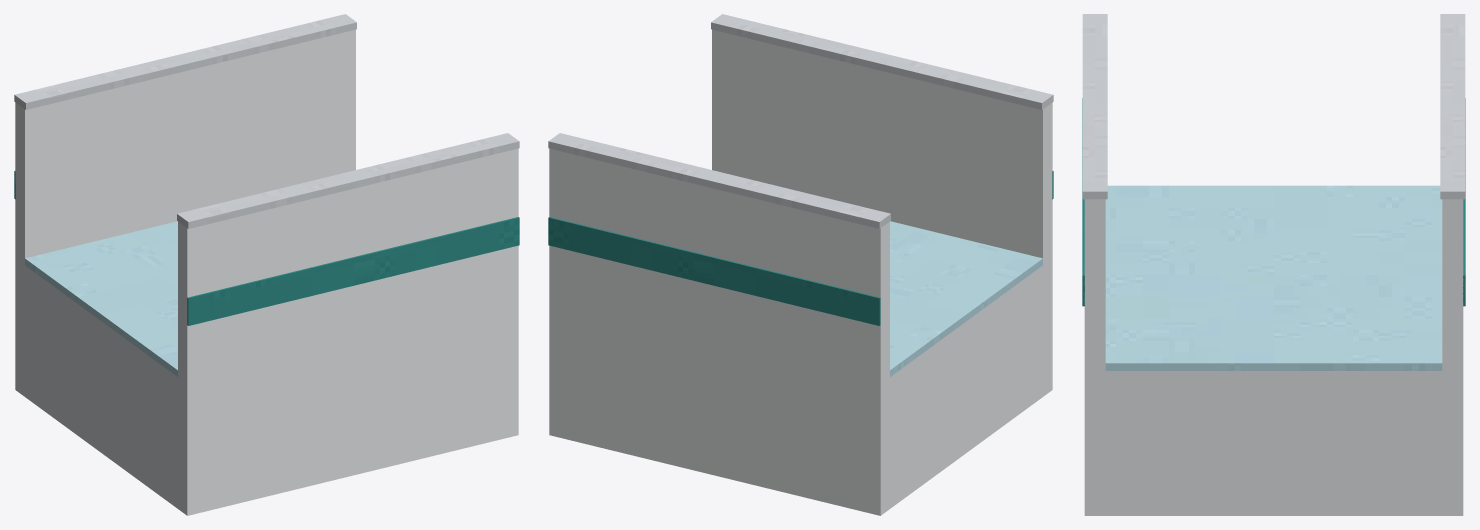
3 renders of one model, left to right at view 1: azimuth 30°, elevation 25°; view 2: azimuth 150°, elevation 25°; view 3: azimuth 270°, elevation 25°, orthographic. The views are drawn at different scales.
Parts seen in each view (by area): view 1: Decor_shelf_kit/tub; view 2: Decor_shelf_kit/tub; view 3: Decor_shelf_kit/tub.
Part boxes in pixels (x1,y1,x2,y2): Decor_shelf_kit/tub: (14, 14, 519, 515); Decor_shelf_kit/tub: (548, 14, 1053, 515); Decor_shelf_kit/tub: (1082, 14, 1465, 515).
Bounding box in the file's own units: 1 × 0.85 × 0.9104.
4 materials, 4 textured.
